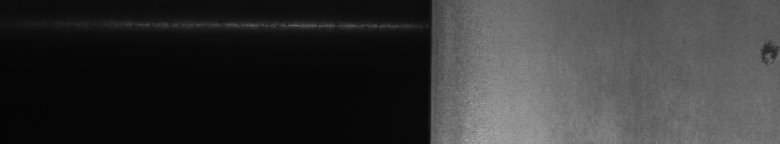fi: (755, 37, 776, 67)
